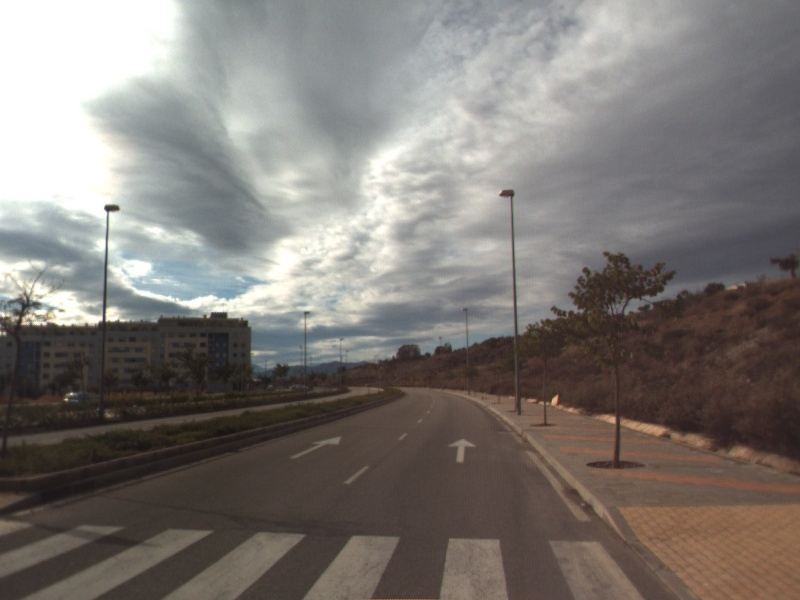STRAIGHT: (287, 434, 344, 461), (446, 437, 478, 464)
